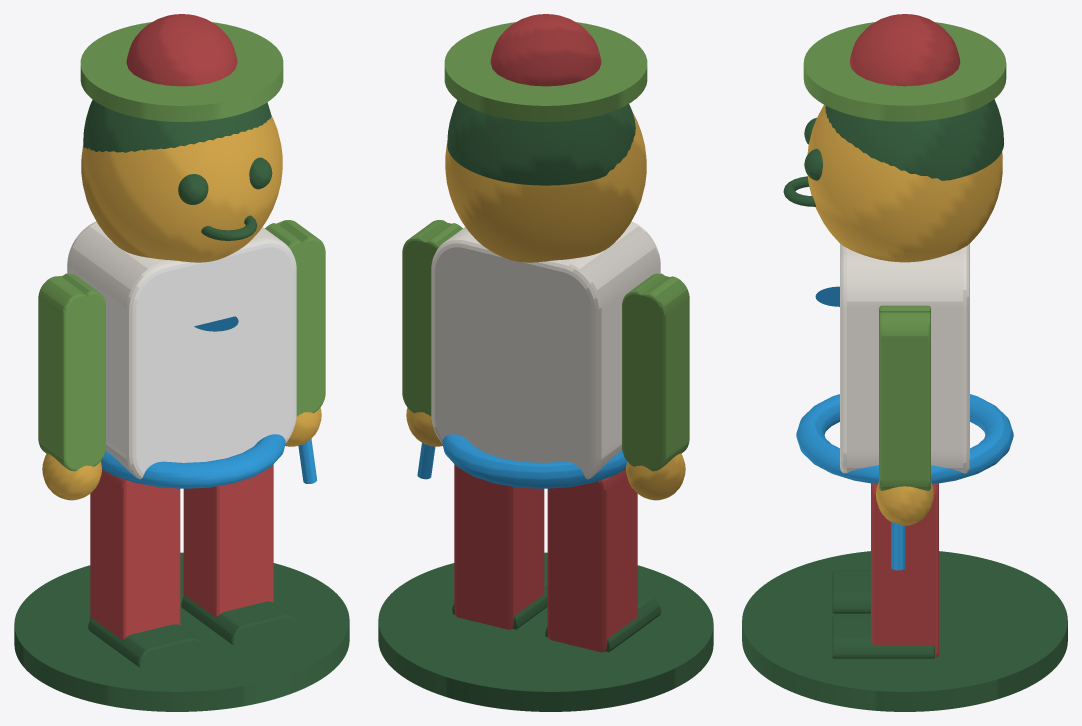
The model's file is 1325_中国古代寓言_楚人.glb.
The picture shows the model from 3 angles, left to right: view 1: azimuth 30°, elevation 25°; view 2: azimuth 150°, elevation 25°; view 3: azimuth 270°, elevation 25°; orthographic projection.
Visible parts, largest first — view 1: card_1325; view 2: card_1325; view 3: card_1325.
Part boxes in pixels (x1,y1,x2,y2): card_1325: (14,14,349,711); card_1325: (378,14,713,711); card_1325: (742,14,1067,711).
Bounding box in the file's own units: 0.4918 × 1 × 0.4753.
